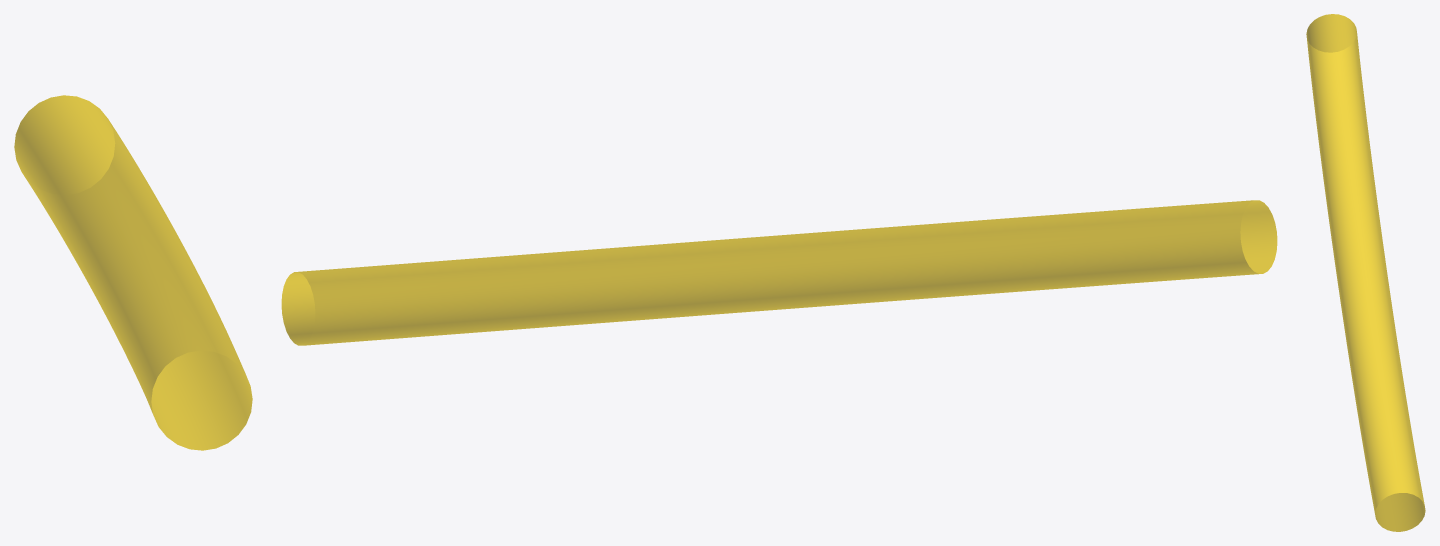
Rendered from Event_17758602_track_67.fbx.
3 renders of one model, left to right at view 1: azimuth 90°, elevation 25°; view 2: azimuth 150°, elevation 25°; view 3: azimuth 270°, elevation 25°, orthographic. The views are drawn at different scales.
Parts seen in each view (by area): view 1: Model; view 2: Model; view 3: Model.
Boxes of the visible parts, x1=… form: Model: x1=14, y1=95, x2=252, y2=450; Model: x1=281, y1=200, x2=1277, y2=345; Model: x1=1306, y1=14, x2=1425, y2=531.
Size of the model in its own units: 0.5761 by 0.1912 by 0.0938.
